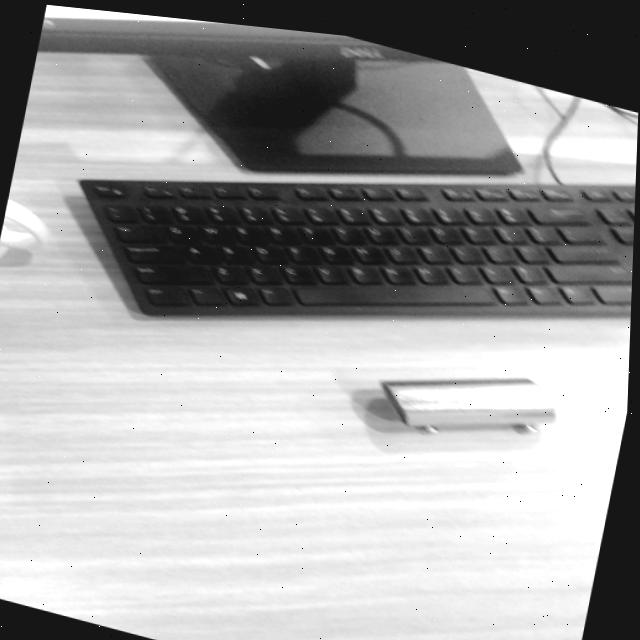Co_Lon: (381, 379, 556, 433)
